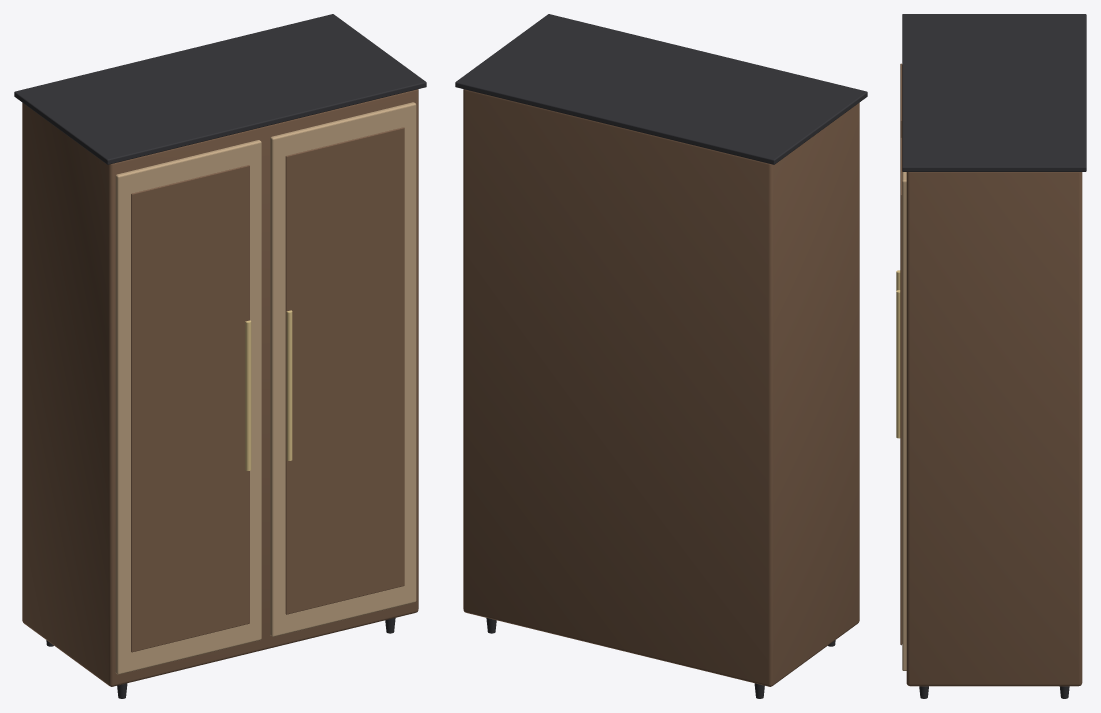
Rendered from modern_wardrobe.glb.
3 renders of one model, left to right at view 1: azimuth 30°, elevation 25°; view 2: azimuth 150°, elevation 25°; view 3: azimuth 270°, elevation 25°, orthographic.
Visible parts, largest first — view 1: body, door_panel.001, door_panel, top, door.001, door, handle, handle.001; view 2: body, top; view 3: body, top, door.001, door_panel.001, handle.001.
Part boxes in pixels (left/top/right/bottom): body: left=22, top=89, right=418, bottom=686; door_panel.001: left=285, top=127, right=404, bottom=614; door_panel: left=131, top=165, right=249, bottom=652; top: left=14, top=14, right=426, bottom=164; door.001: left=270, top=102, right=416, bottom=636; door: left=115, top=140, right=261, bottom=674; handle: left=245, top=320, right=251, bottom=470; handle.001: left=286, top=310, right=292, bottom=460; body: left=463, top=89, right=859, bottom=686; top: left=455, top=14, right=867, bottom=164; body: left=906, top=172, right=1082, bottom=686; top: left=902, top=14, right=1086, bottom=171; door.001: left=902, top=172, right=906, bottom=670; door_panel.001: left=900, top=137, right=902, bottom=645; handle.001: left=896, top=290, right=900, bottom=438.
Size of the model in its own units: 1.24 by 2.05 by 0.65.
